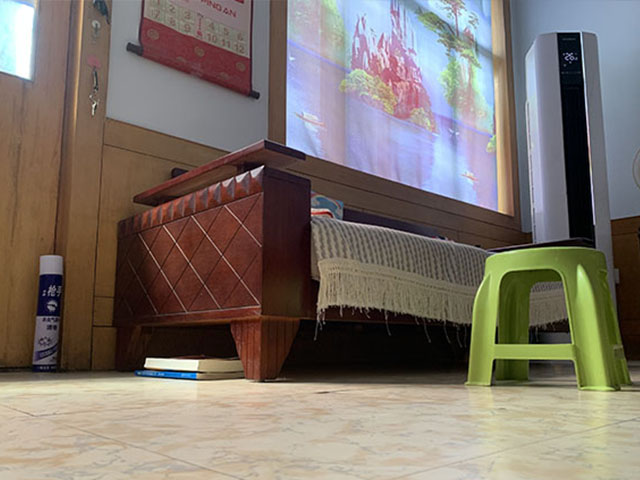book: (135, 356, 244, 381)
sofa: (116, 138, 530, 382)
stool: (467, 244, 631, 390)
